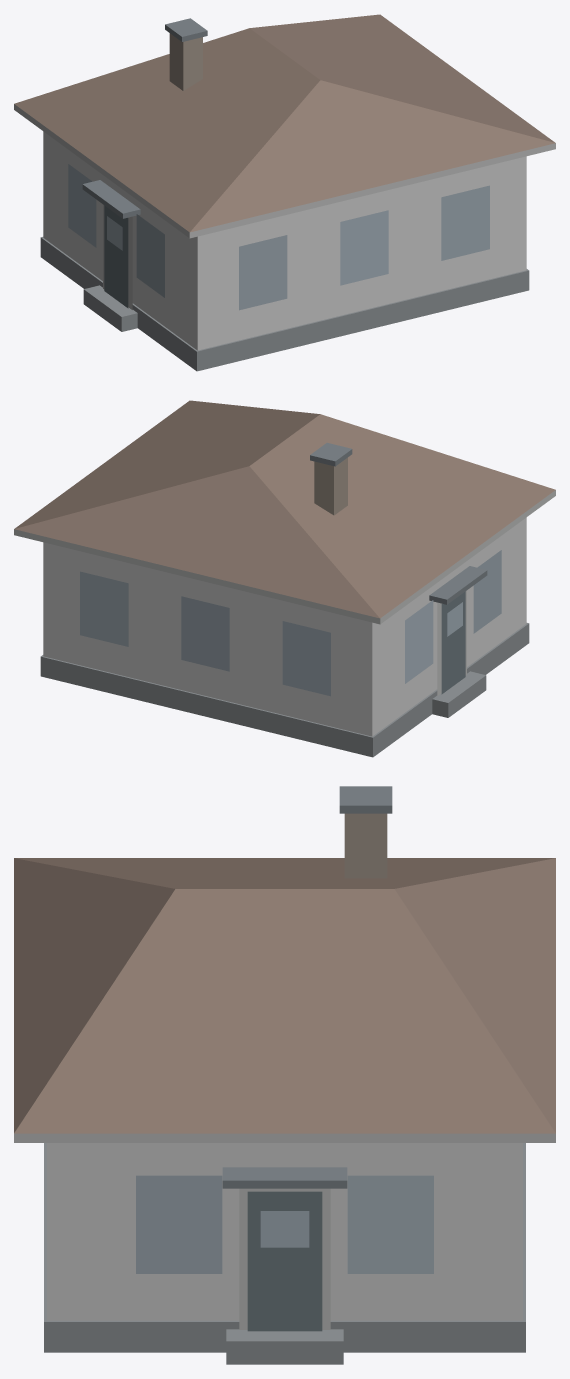
The model's file is home_2.glb.
3 renders of one model, top to bottom at view 1: azimuth 30°, elevation 25°; view 2: azimuth 150°, elevation 25°; view 3: azimuth 270°, elevation 25°, orthographic. The views are drawn at different scales.
Parts seen in each view (by area): view 1: home_2; view 2: home_2; view 3: home_2.
Part boxes in pixels (x1=…): home_2: x1=14, y1=14, x2=555, y2=371; home_2: x1=14, y1=400, x2=555, y2=757; home_2: x1=14, y1=786, x2=555, y2=1364.
Size of the model in its own units: 8.9 by 5.68 by 7.4.
